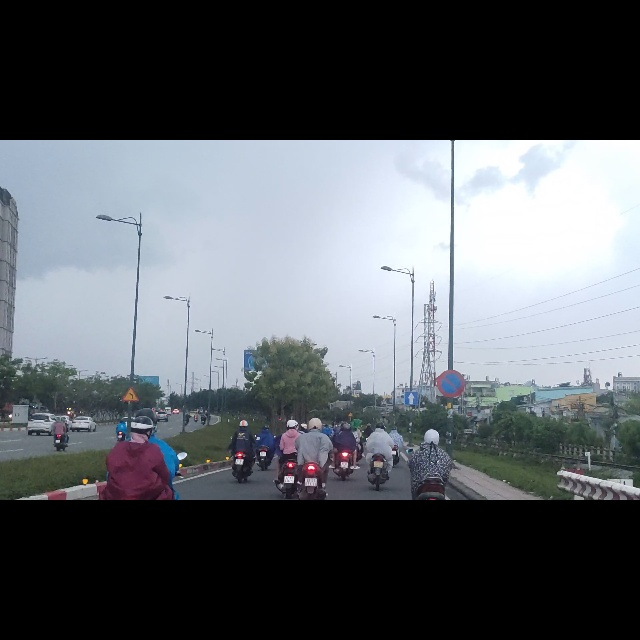bien_cam: (437, 410, 465, 457), (123, 439, 139, 465), (404, 447, 418, 472)
